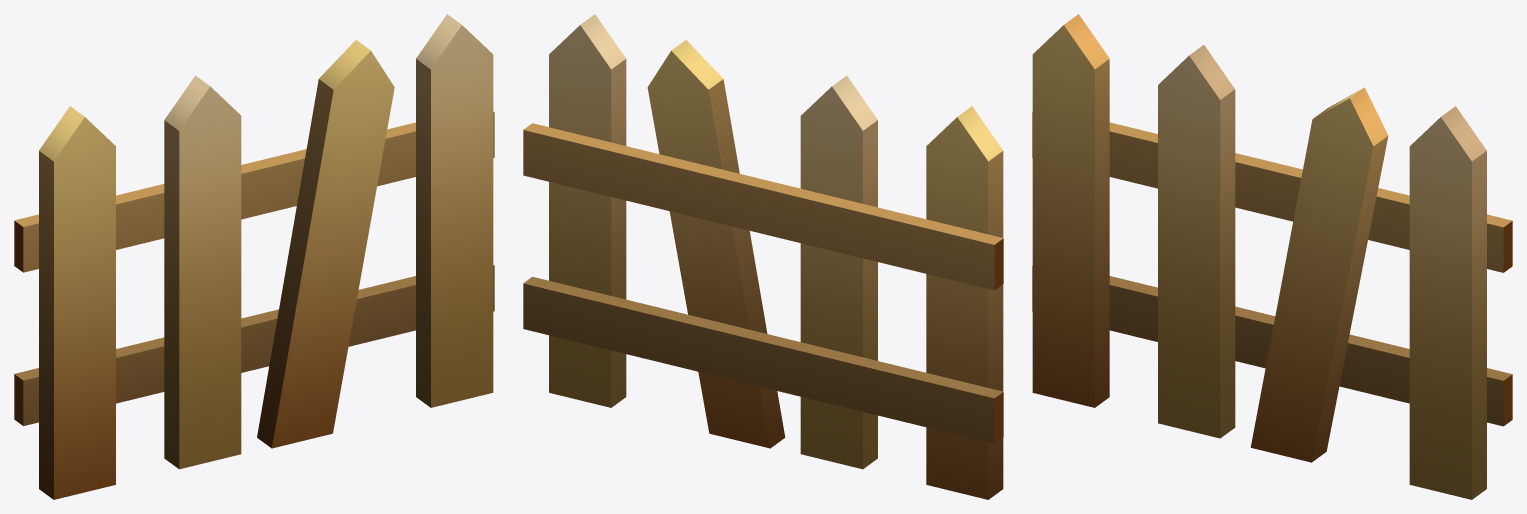
Rendered from Fence_01B.fbx.
3 views of the same model, side by side, from view 1: azimuth 30°, elevation 25°; view 2: azimuth 150°, elevation 25°; view 3: azimuth 330°, elevation 25° (orthographic).
Visible parts, largest first — view 1: Fence_01B; view 2: Fence_01B; view 3: Fence_01B.
Boxes of the visible parts, <box> form: Fence_01B: <box>14,14,494,499</box>; Fence_01B: <box>523,14,1003,499</box>; Fence_01B: <box>1032,14,1512,499</box>.
Bounding box in the file's own units: 132 × 101 × 11.76.
Materials: 1 (1 with a texture image).
